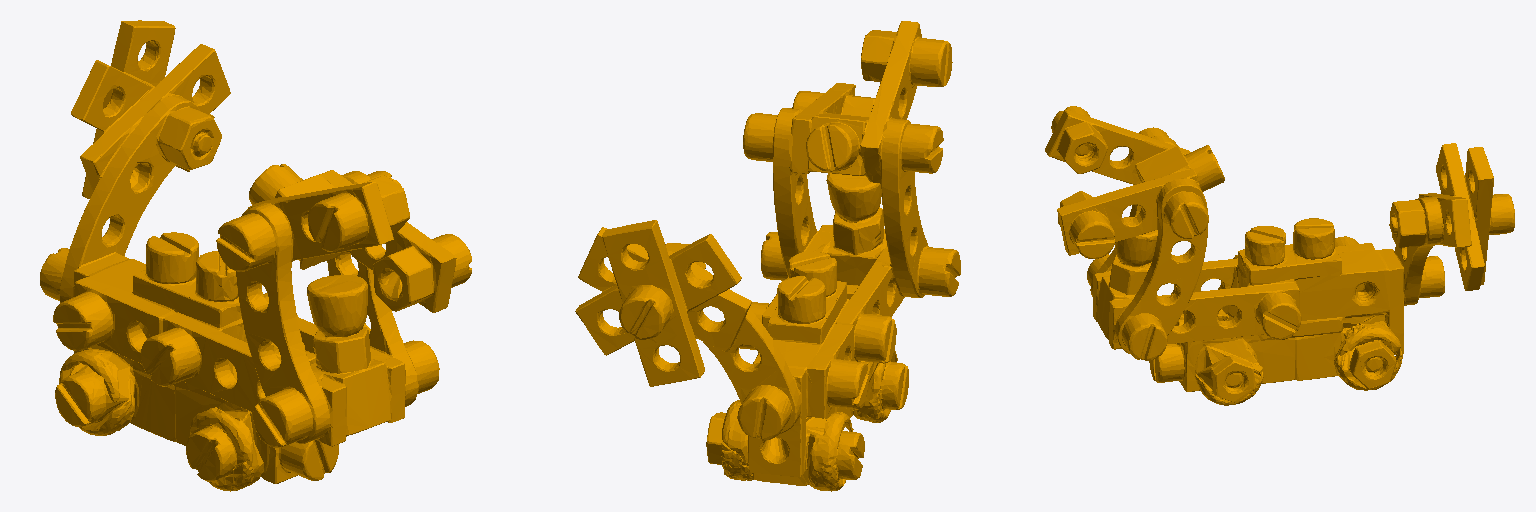
URDF robot description (1m0lvpzs):
<?xml version='1.0'?>

<robot name="1m0lvpzs">
    <static>false</static>
    <link name="link">
        <inertial>
            <mass value="0.044983829345770596"/>
            <inertia ixx="7.141426291528713e-05" ixy="4.5002383054201665e-06" ixz="-4.784041489142944e-06"
                     iyy="2.847667255940677e-05" iyz="5.528468961392749e-06" izz="5.607029580495237e-05"/>
        </inertial>
        <collision name="collision">
            <geometry>
                <mesh filename="package://miscnet/train/1m0lvpzs/collision_model_vhacd.obj"/>
            </geometry>
        </collision>
        <visual name="visual">
            <geometry>
                <mesh filename="package://miscnet/train/1m0lvpzs/visual_model.obj"/>
            </geometry>
        </visual>
    </link>
</robot>

--- Render facts (derived) ---
The picture shows the robot from 3 angles, left to right: view 1: azimuth 30°, elevation 25°; view 2: azimuth 150°, elevation 25°; view 3: azimuth 270°, elevation 25°; orthographic projection.
Robot: 1m0lvpzs — 1 links, 0 joints (none); root link link; default pose: all joints at 0.
Links seen in each view (by area): view 1: link; view 2: link; view 3: link.
Boxes of the visible links, x1,y1,x2,y2 form: link: (40, 20, 471, 491); link: (575, 21, 960, 491); link: (1045, 106, 1514, 405).
Size in the robot's own frame: 0.0633 by 0.1374 by 0.0901 metres.
1 mesh visuals loaded from 1 distinct referenced files (1 OBJ).
